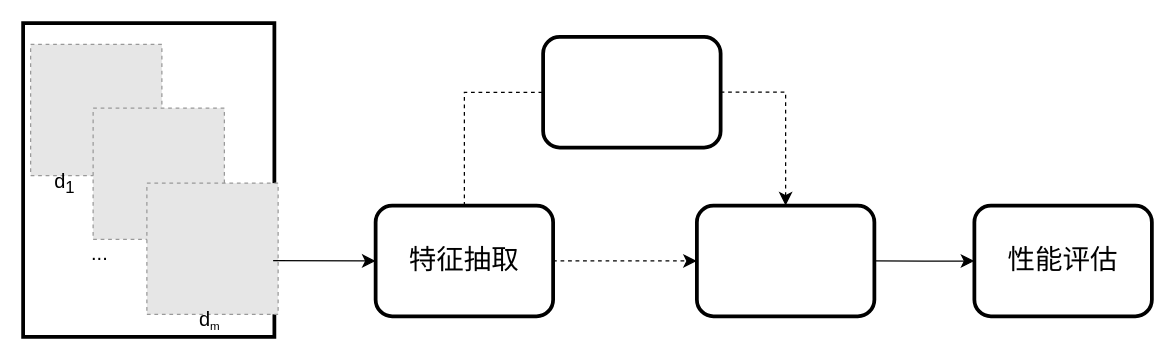
Image size: 1175x364. Some labels were removed from this diagram. Grey dashed boxes stand in for pictures. Each missing label, with the centre of its shape:
"分类器训练" goes at (785,260).
"特征降维" goes at (631,91).
